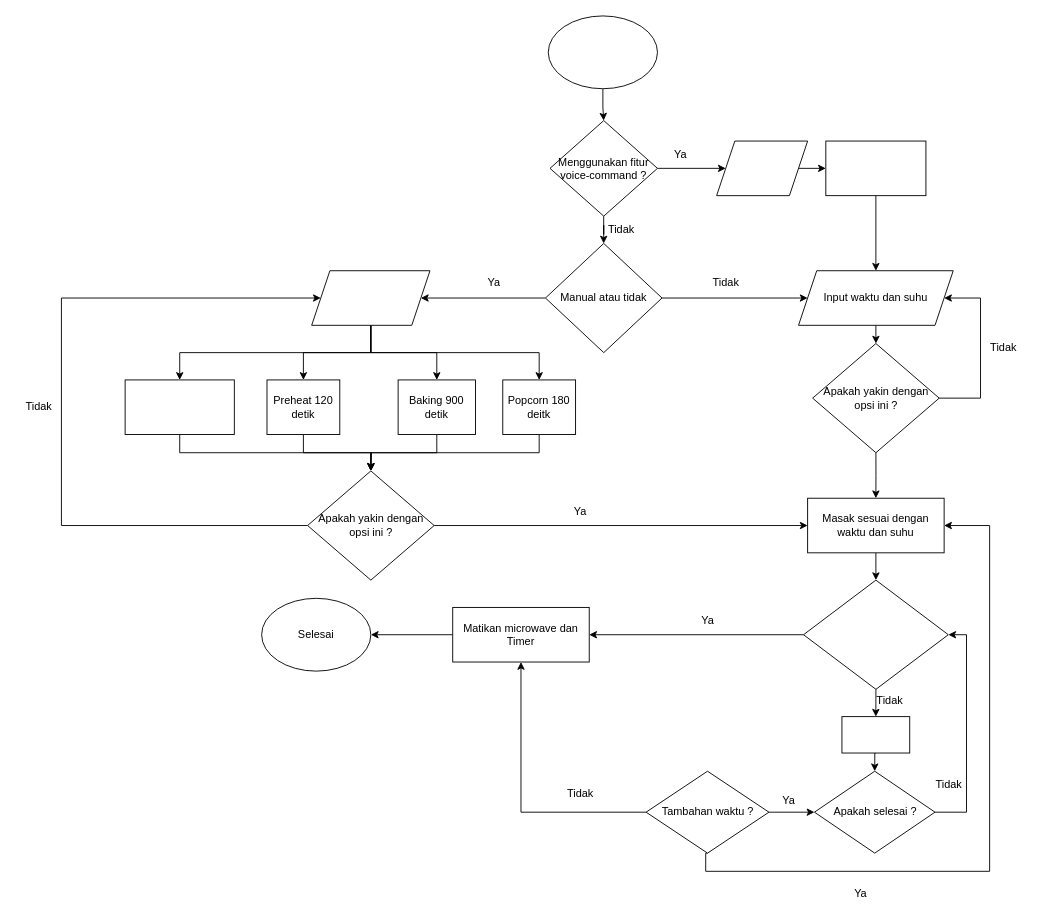
Some shapes in this 1041 by 924 pixel diagram are drawn without their labels. The centre of each missing label's shape, as x and y in pixels:
Apakah terdeteksi asap ?: (x=875, y=634)
Cek Timer: (x=875, y=734)
Input suara: (x=762, y=168)
Masukkan Preset: (x=370, y=297)
Mulai: (x=602, y=52)
Pencocokan dengan kata kunci: (x=875, y=168)
Scan dan Masukkan kode pemanasan: (x=179, y=407)
